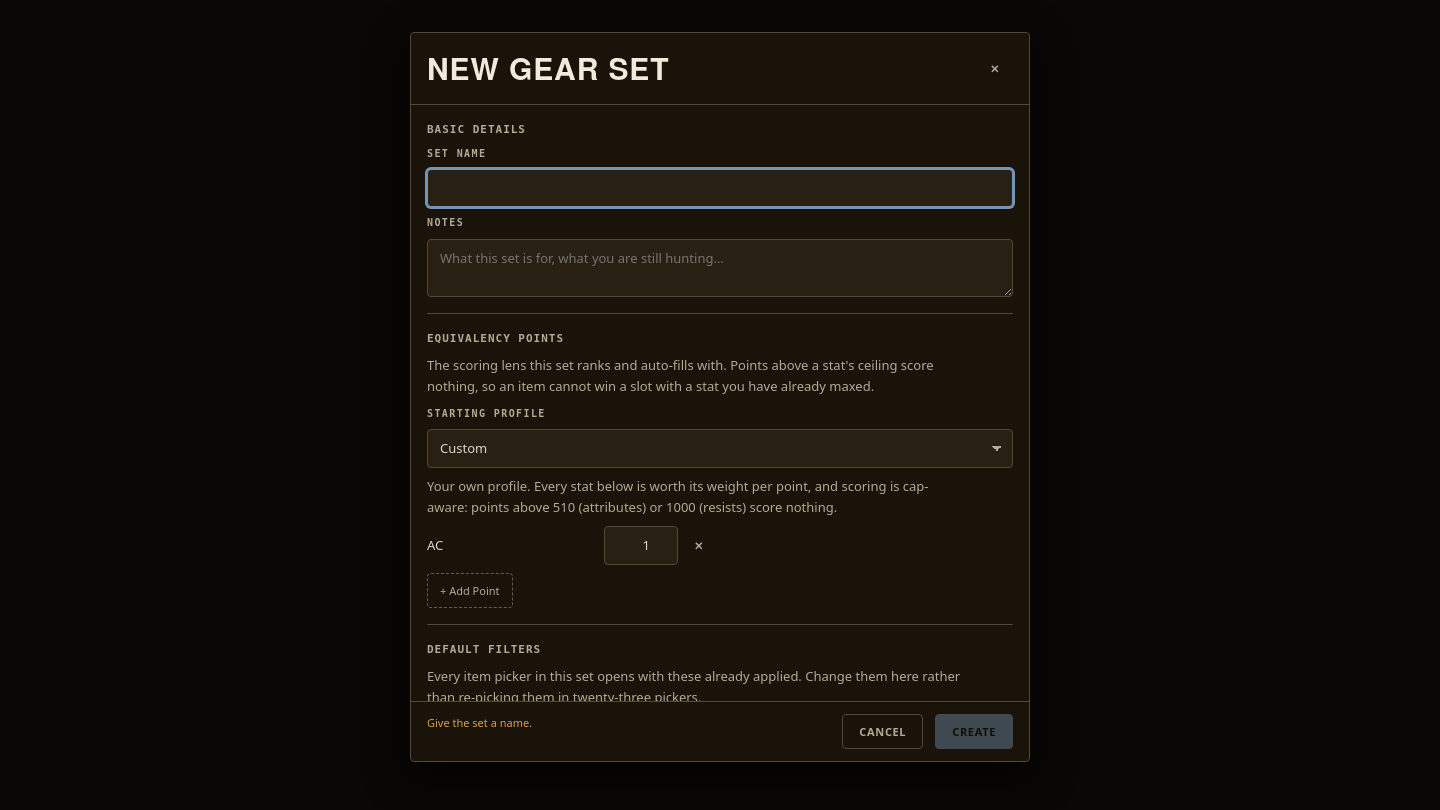
equivalency points › adds an individual stat through + Add Point, and offers it only once
Later steps or results of the test are not shown.
Step 1. Click the button with class "setconfig-add" → click(470, 590), box [427,572,512,608]
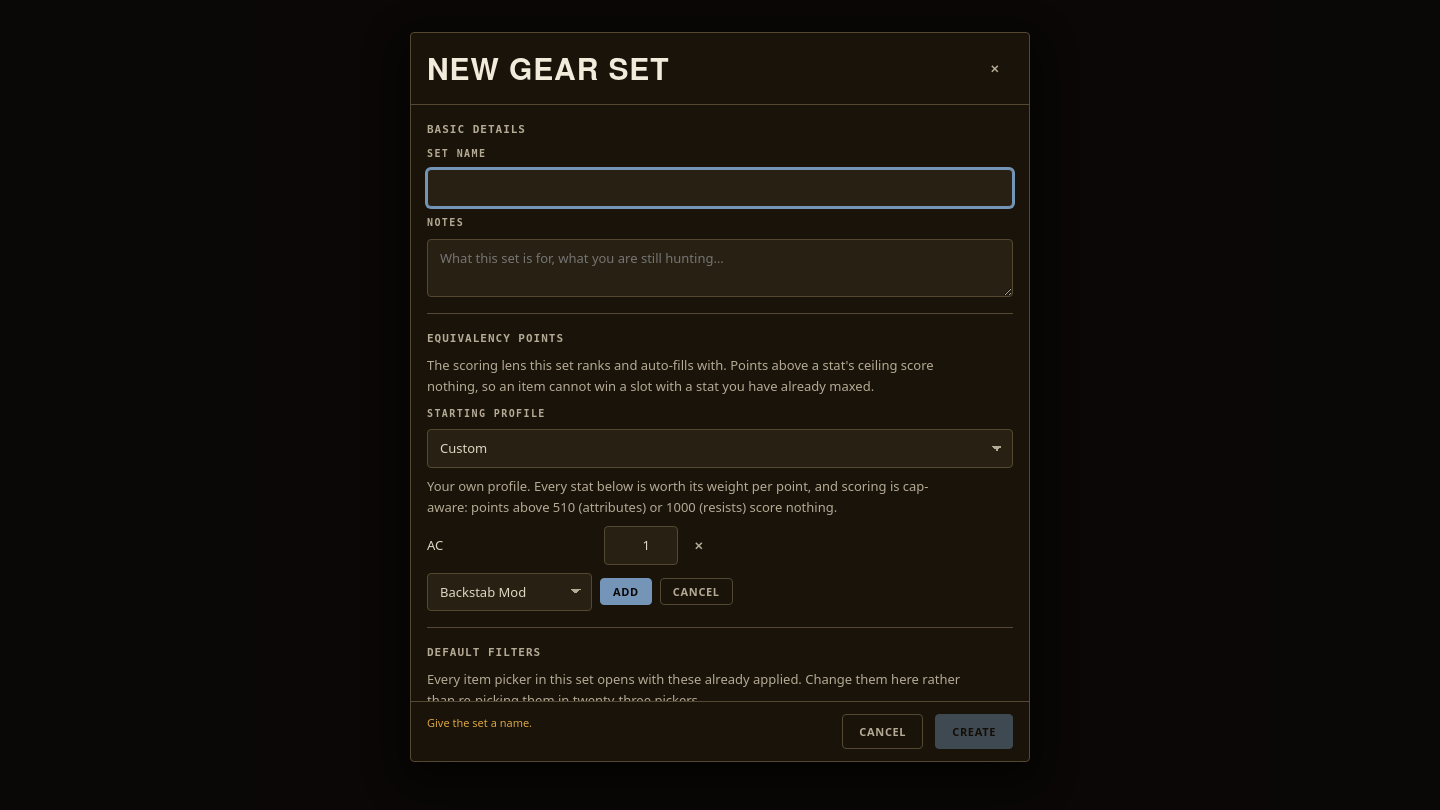
Expected: the dropdown named "Stat to add" is shown, [427,572,592,611]
